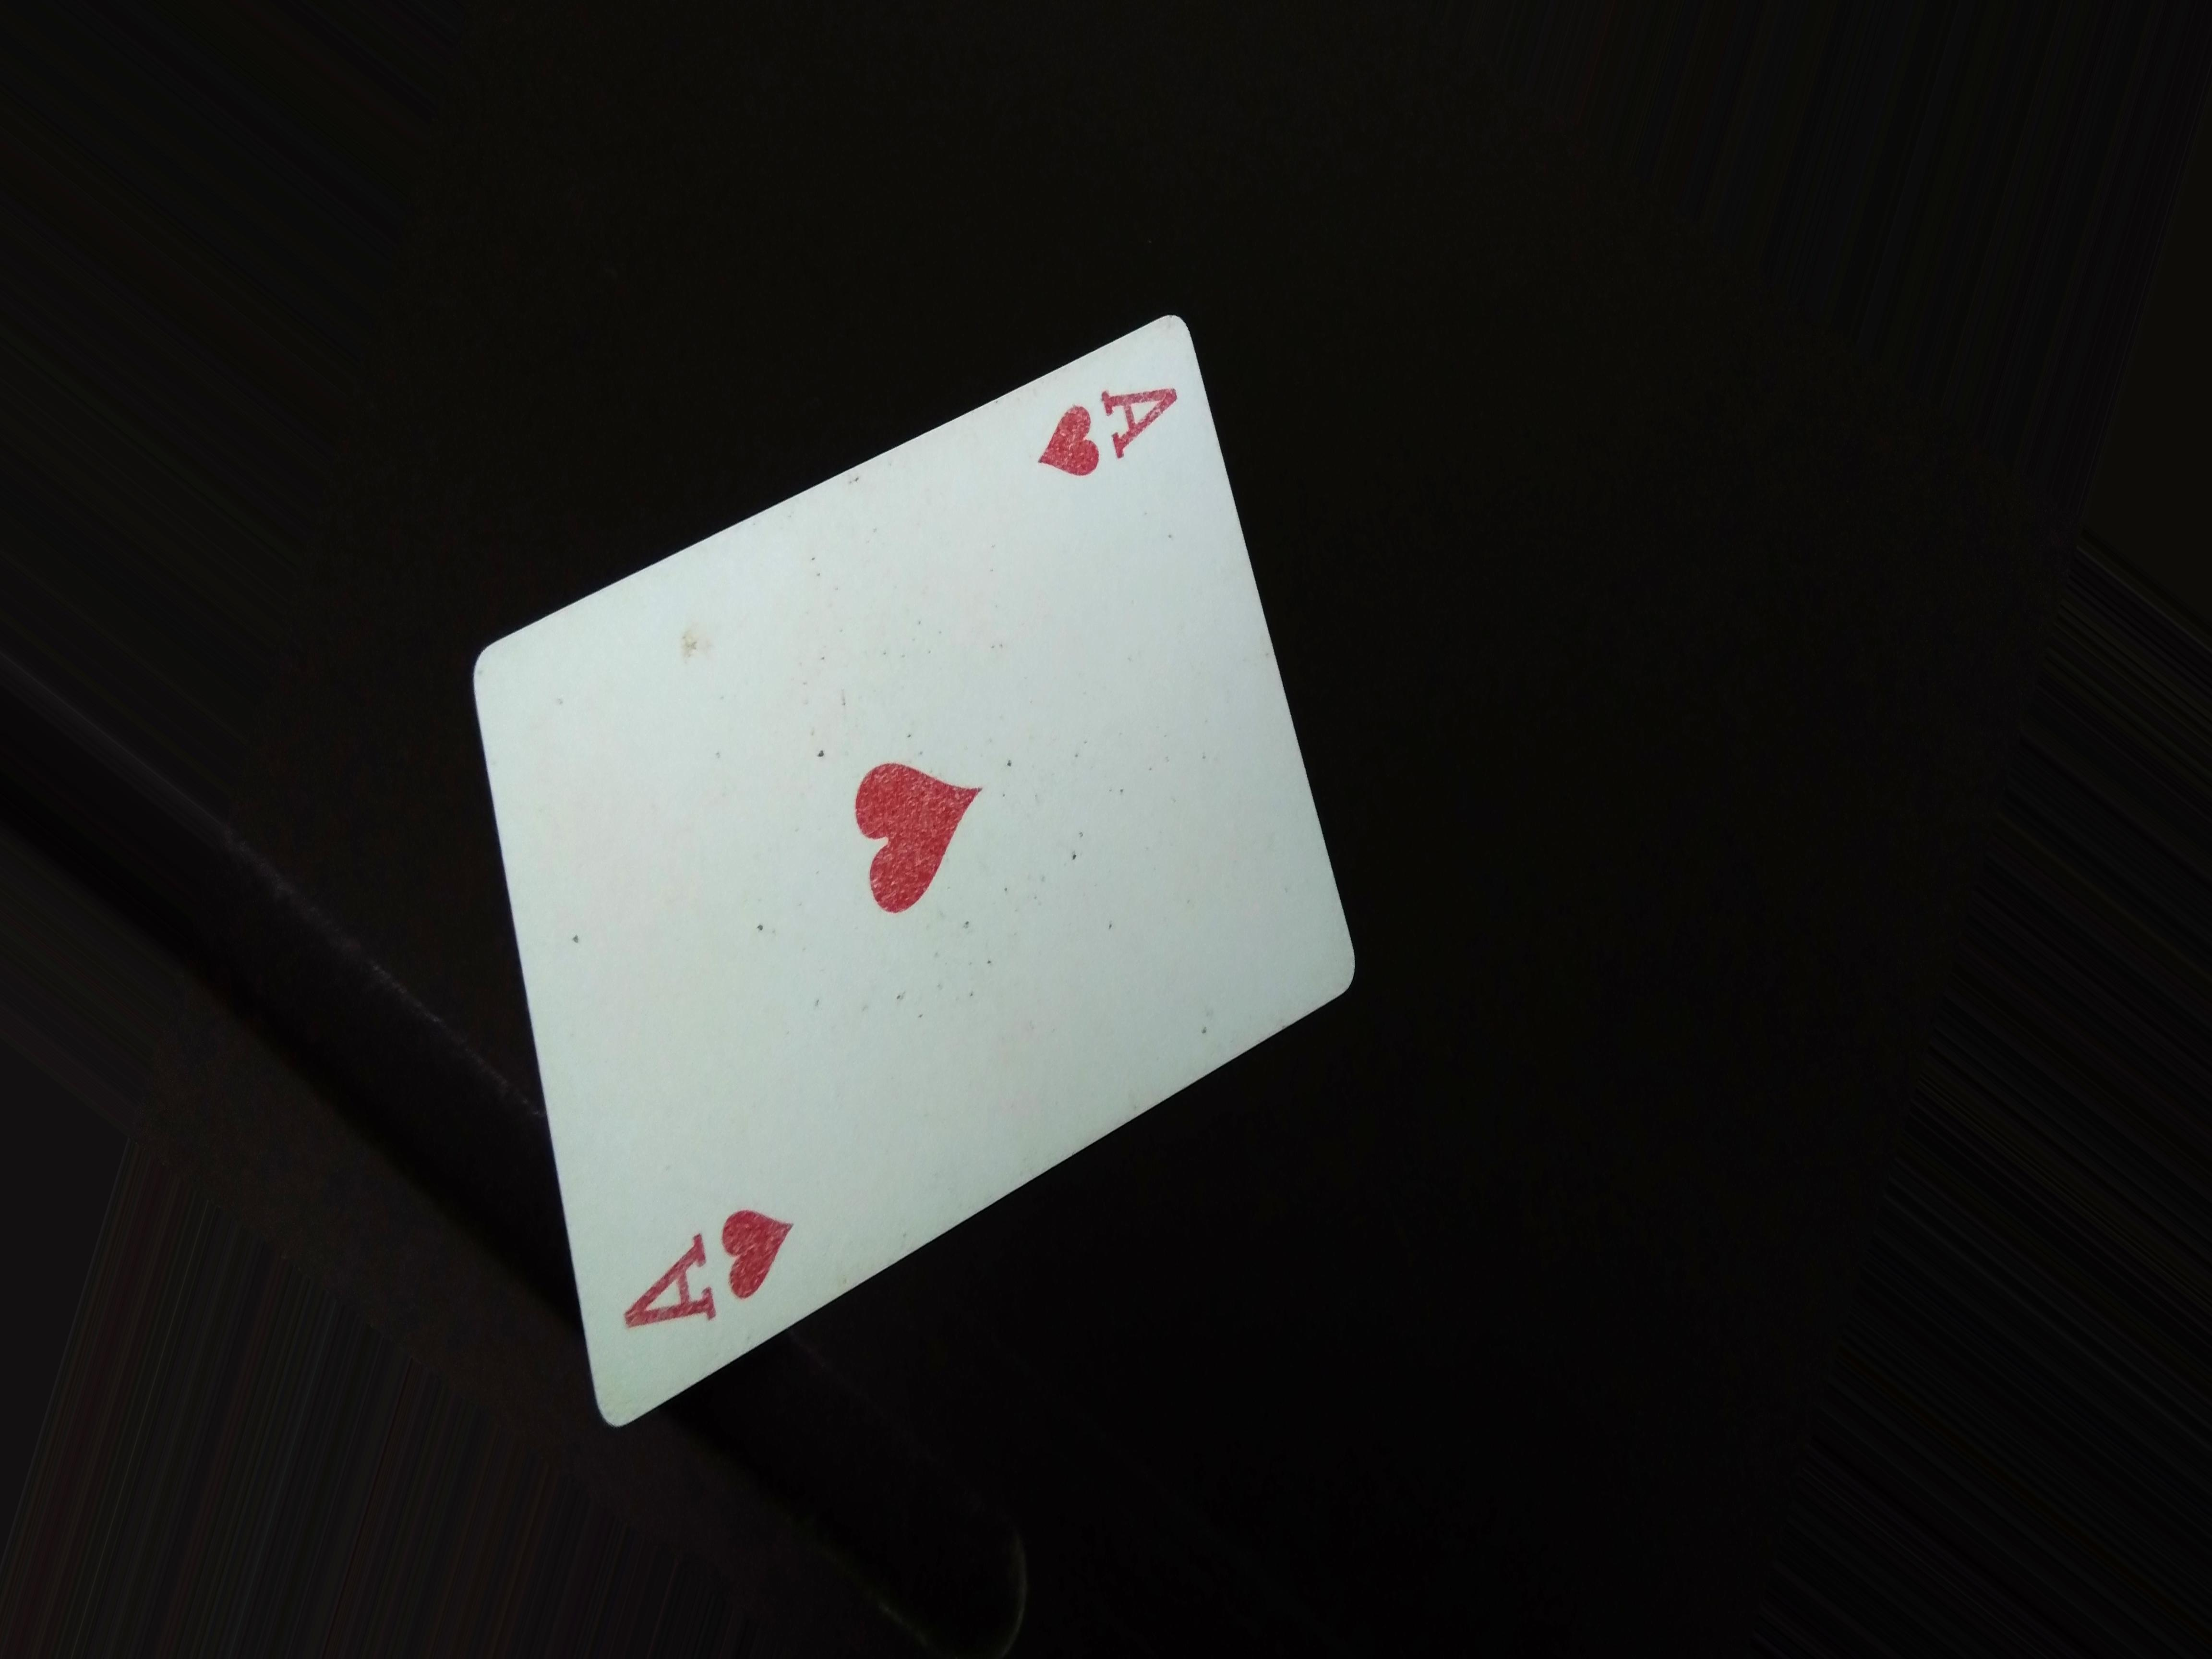AH: (613, 1173, 815, 1358)
